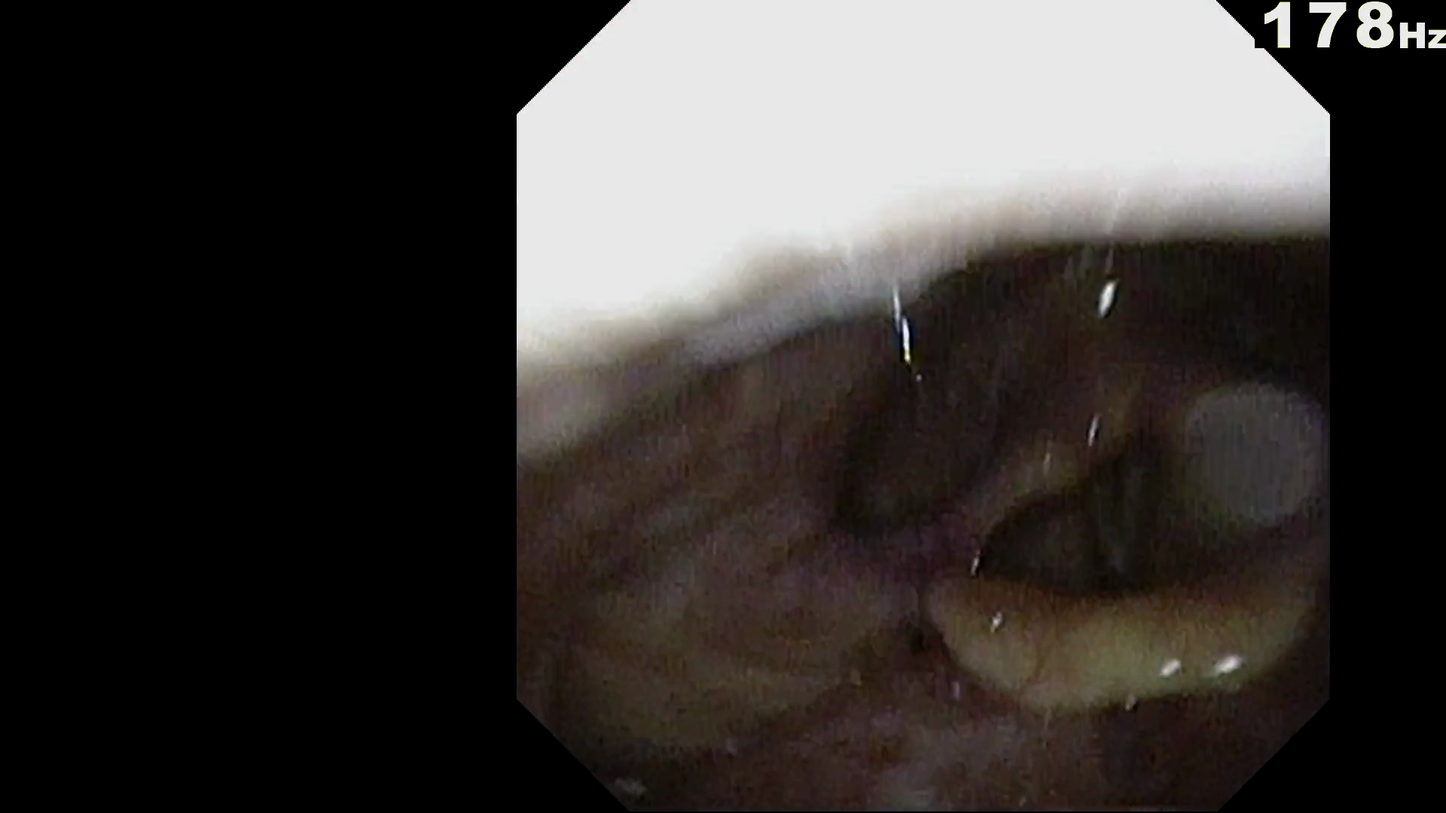epiglottis: (892, 537, 1297, 712)
trachea: (1058, 429, 1176, 565)
